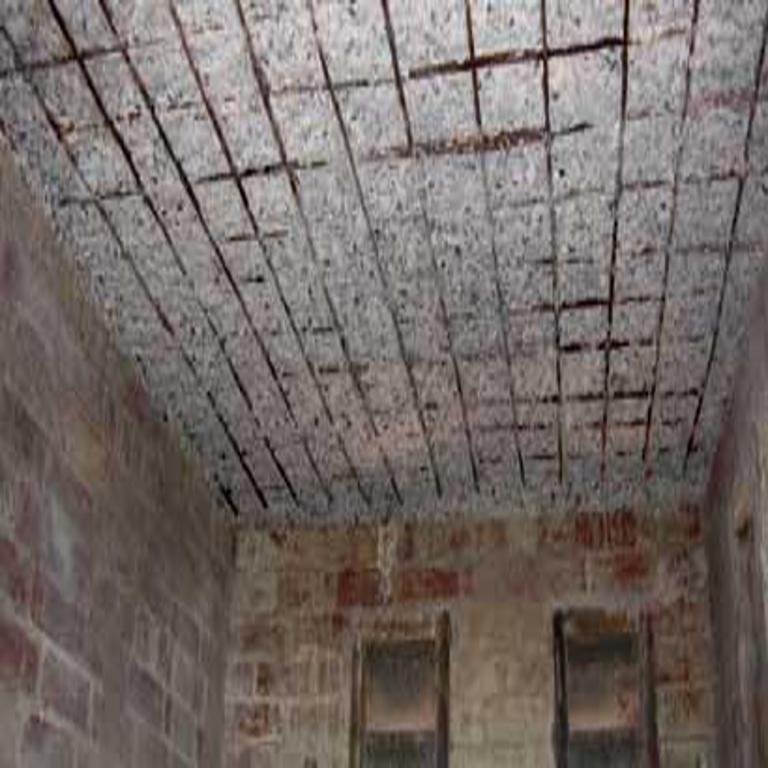spalling: (0, 0, 768, 512)
